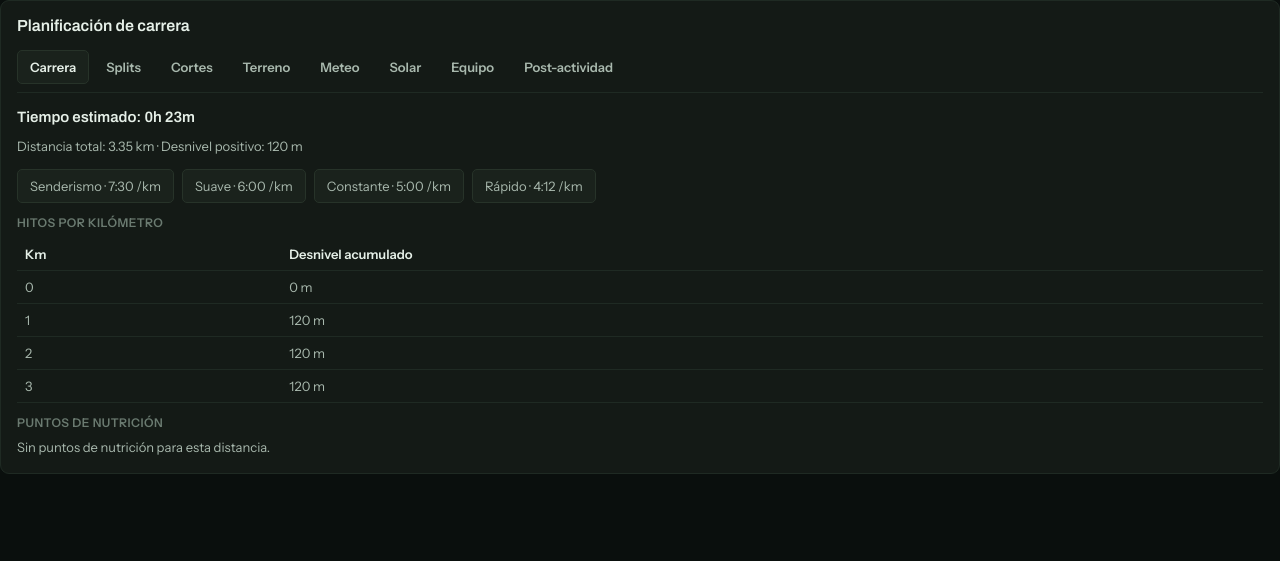
Test: RacePlanSection › degrades only the terrain panel when the request fails
This screenshot has width=1280, height=561.
Click the tab "Terreno".
click(266, 67)  # box [230, 50, 303, 84]
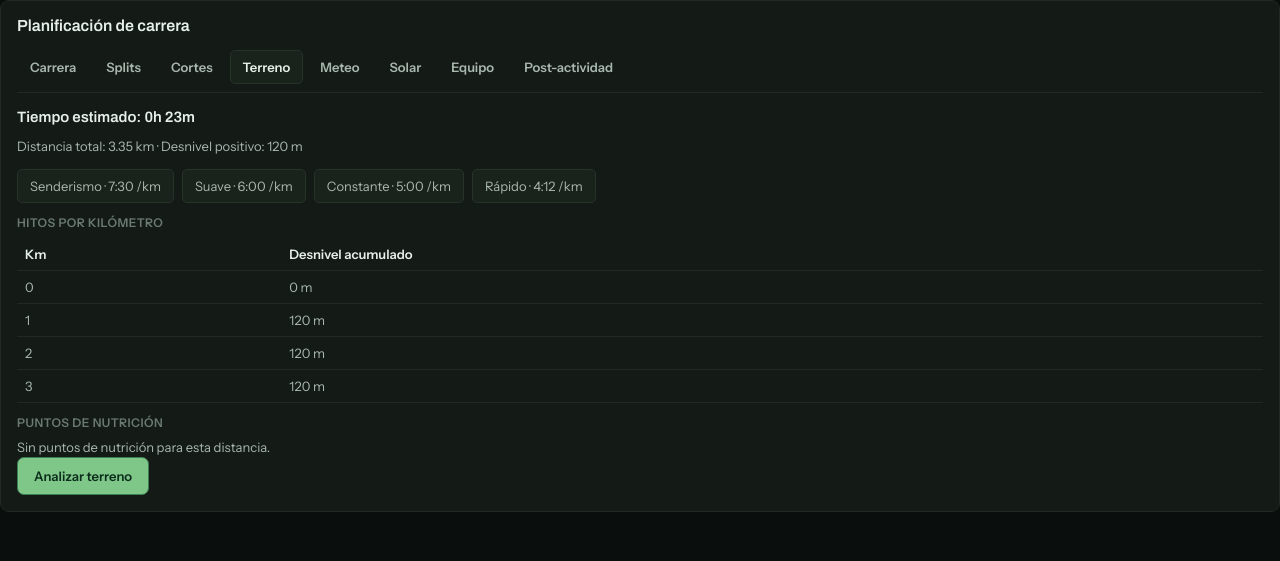
Click the button "Analizar terreno".
click(83, 476)  # box [17, 457, 149, 495]
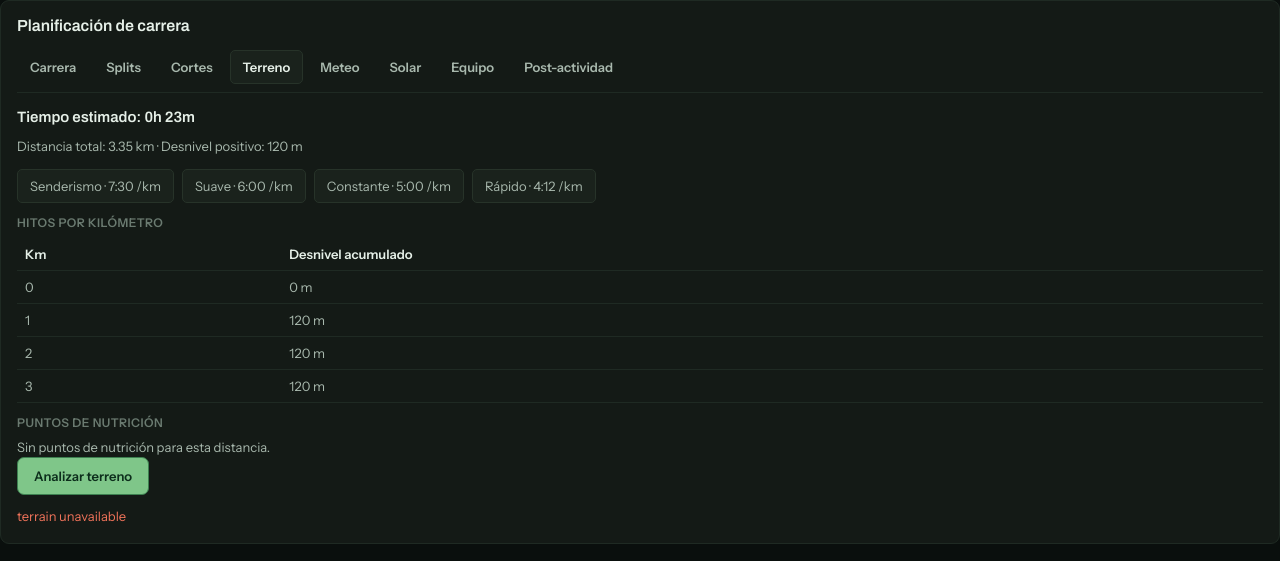
Expected: the tab "Carrera" is shown, [17, 50, 89, 84]
Expected: the message reads "terrain unavailable", [17, 508, 126, 524]
